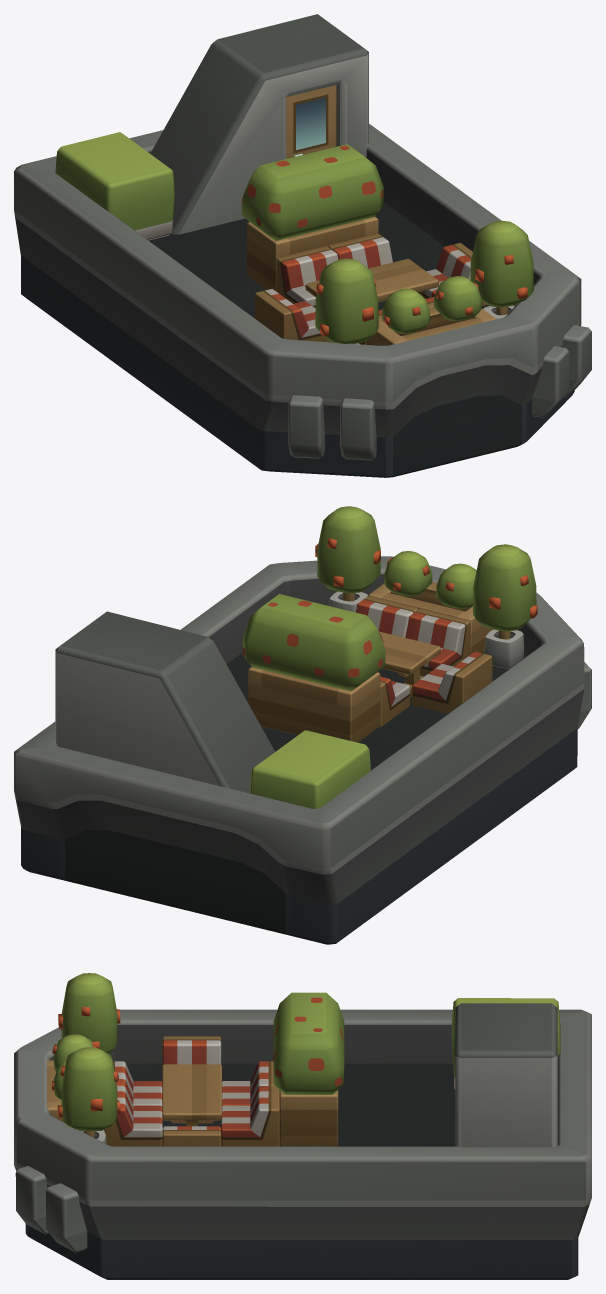
The model's file is appartment_type4_roof_type1_flat_cream_deco.fbx.
3 views of the same model, one above another, from view 1: azimuth 30°, elevation 25°; view 2: azimuth 150°, elevation 25°; view 3: azimuth 270°, elevation 25° (orthographic). The views are drawn at different scales.
Visible parts, largest first — view 1: appartment_type4_roof_type1_flat_cream_deco, door_wood_rooftop_doorway; view 2: appartment_type4_roof_type1_flat_cream_deco; view 3: appartment_type4_roof_type1_flat_cream_deco.
Part boxes in pixels (box(x1,y1,x2,y2)): appartment_type4_roof_type1_flat_cream_deco: box(14, 14, 591, 477); door_wood_rooftop_doorway: box(286, 85, 336, 158); appartment_type4_roof_type1_flat_cream_deco: box(14, 506, 591, 944); appartment_type4_roof_type1_flat_cream_deco: box(14, 973, 591, 1279).
Size of the model in its own units: 610 by 410 by 988.
